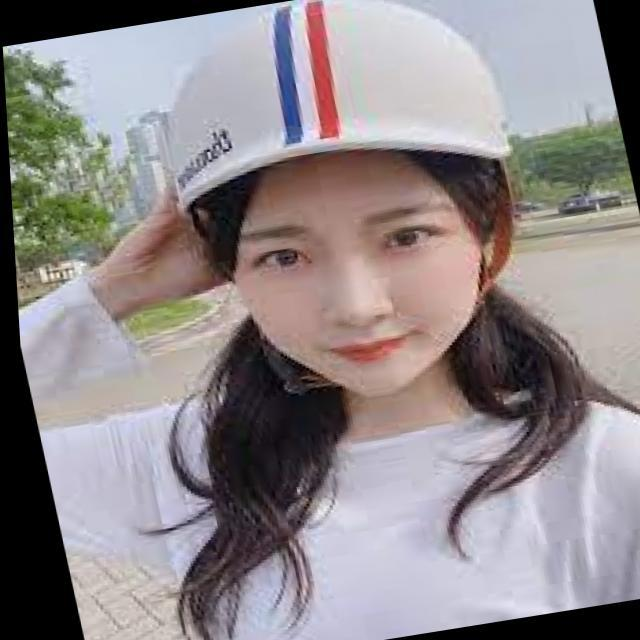Helmet: (154, 1, 516, 411)
